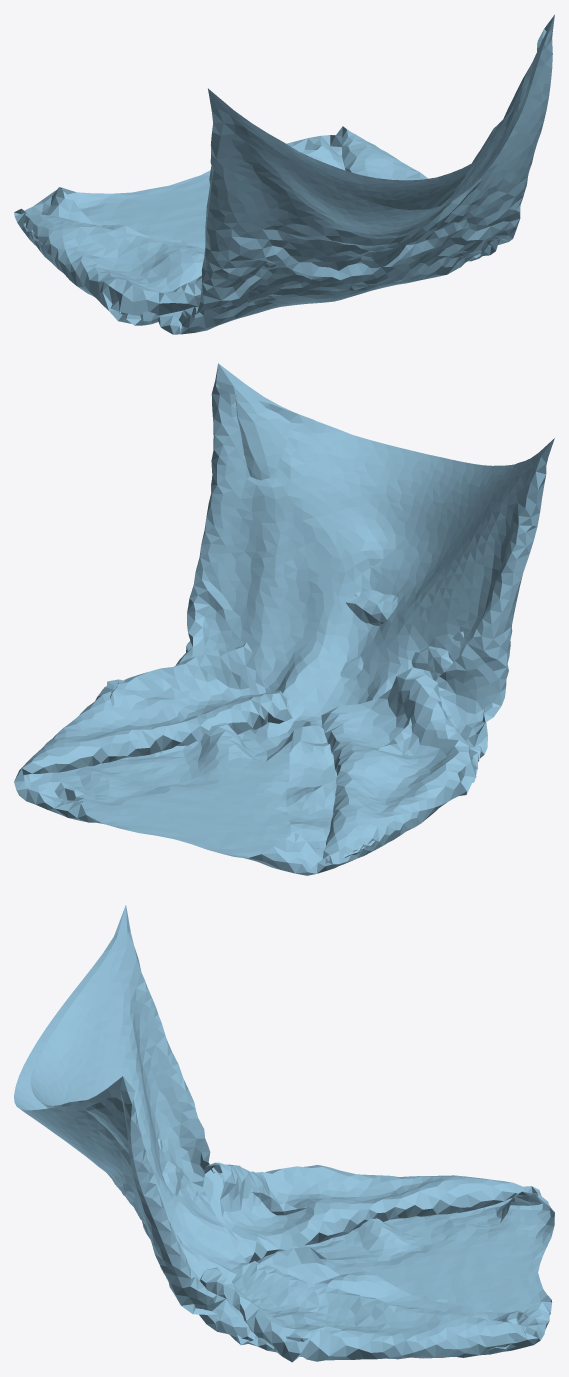
The model's file is frame_07.glb.
3 views of the same model, one above another, from view 1: azimuth 30°, elevation 25°; view 2: azimuth 150°, elevation 25°; view 3: azimuth 270°, elevation 25° (orthographic). The views are drawn at different scales.
Visible parts, largest first — view 1: frame_07.obj; view 2: frame_07.obj; view 3: frame_07.obj.
Boxes of the visible parts, x1=… form: frame_07.obj: x1=14, y1=14, x2=554, y2=334; frame_07.obj: x1=14, y1=363, x2=554, y2=875; frame_07.obj: x1=14, y1=905, x2=554, y2=1362.
Size of the model in its own units: 1.2 by 0.9186 by 1.54.
